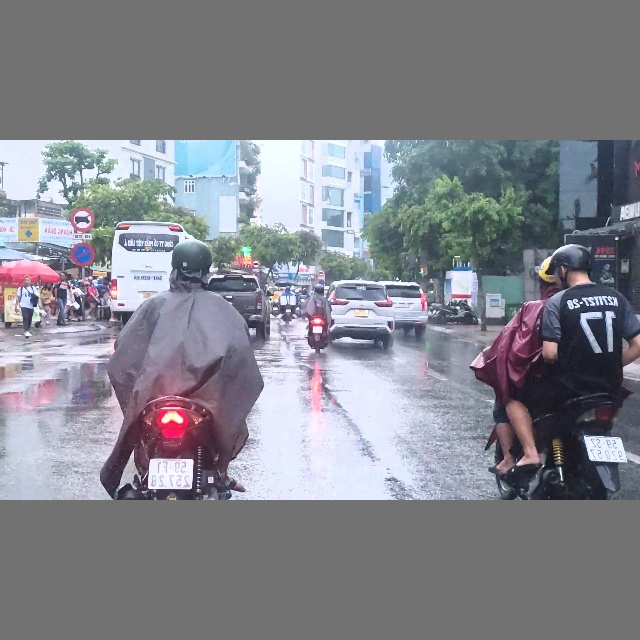P.106a*Xe tai: (70, 207, 94, 232), (252, 259, 261, 268), (317, 270, 324, 276)
P.131a: (71, 241, 95, 266)
